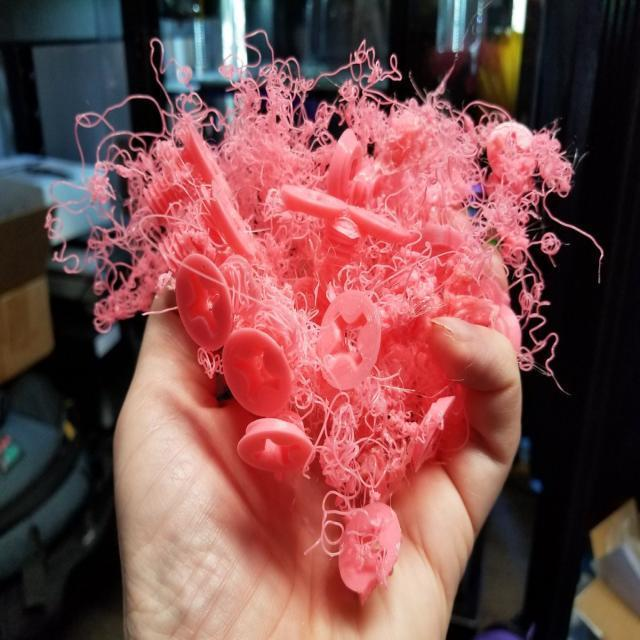spaghetti: (268, 33, 588, 384), (59, 56, 338, 391), (217, 296, 455, 574)
